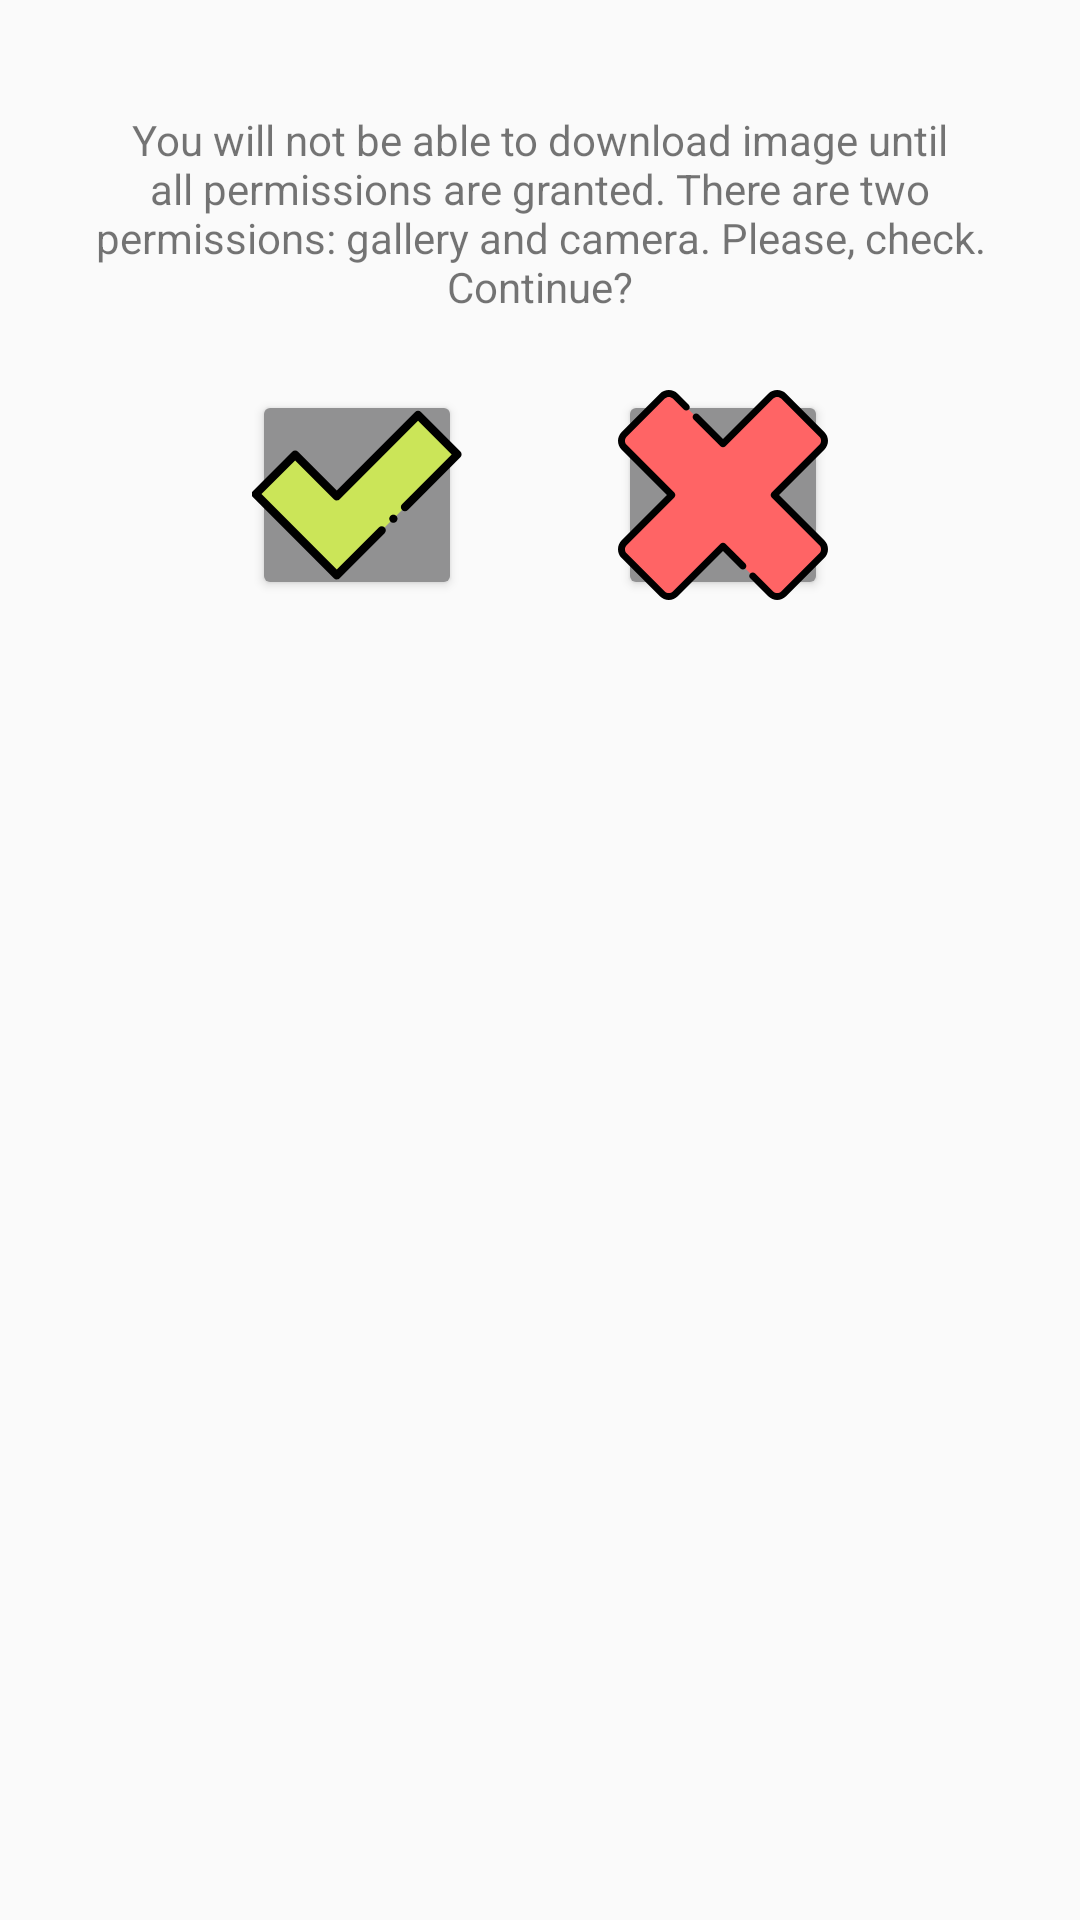

Named icons in this screenshot (1080w x 1920h) and their bounding boxes, {"left": x1, "top": y1, "right": x2, "bottom": y2}:
accept: {"left": 252, "top": 408, "right": 462, "bottom": 583}
cross: {"left": 618, "top": 390, "right": 828, "bottom": 600}
